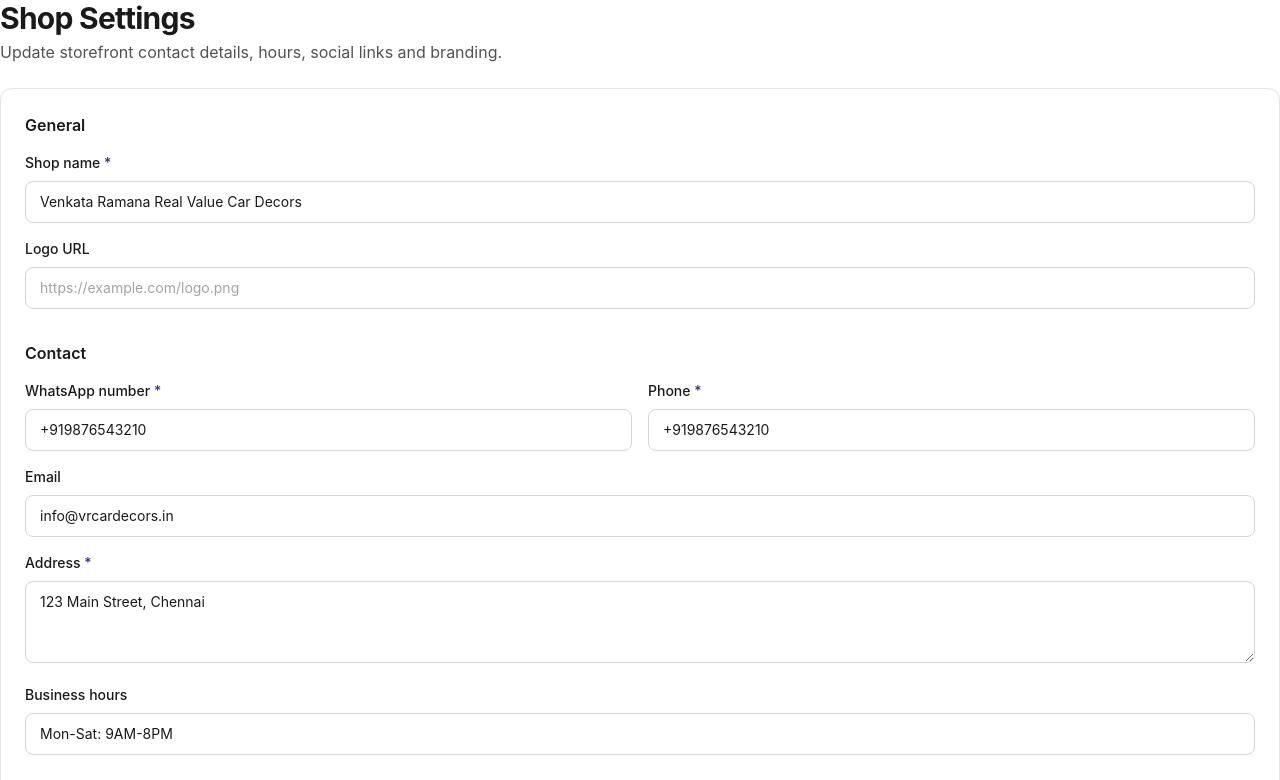
Test: ShopSettingsAdminPage › saves edits with the exact snake_case payload
Replace the text in the field labelled "Shop name *" with "New Name". click: (640, 202)
box: [25,181,1255,223]
(page scrolled)
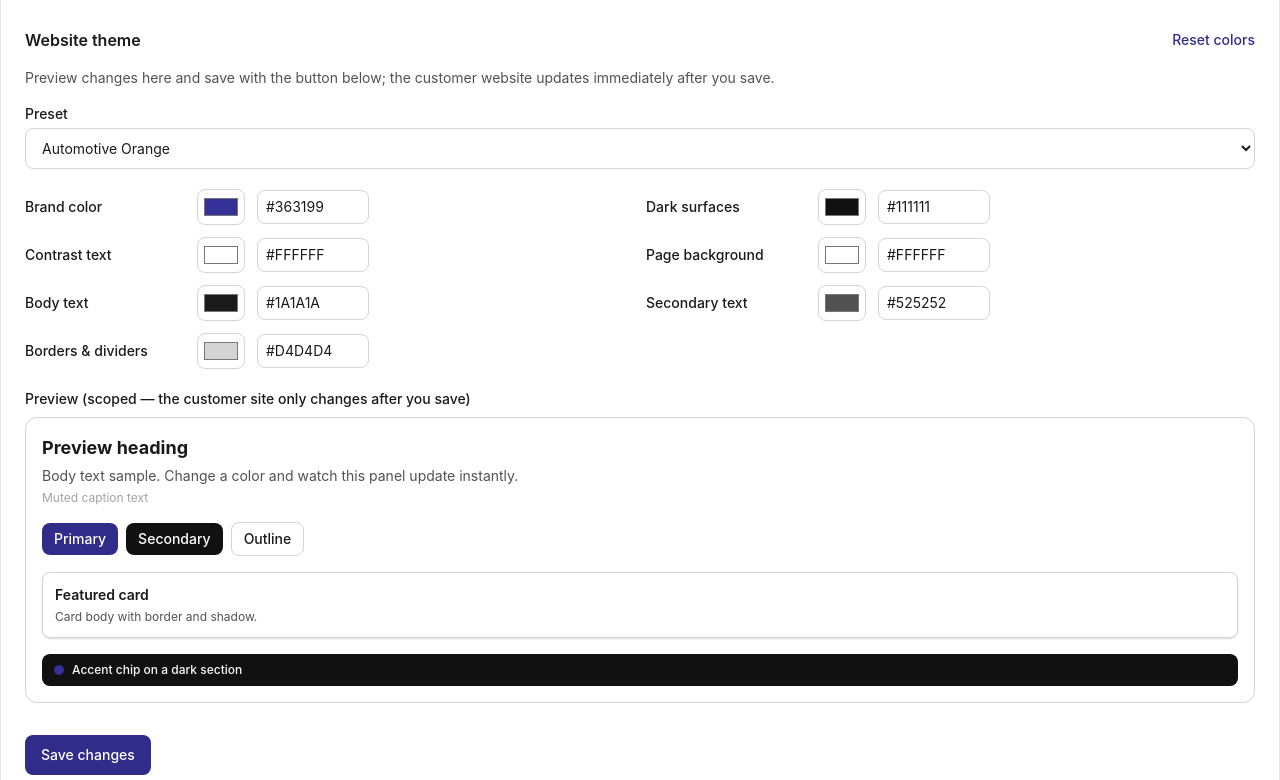
Click the button "Save changes". click: (88, 755)
box: [25,735,151,775]
(page scrolled)
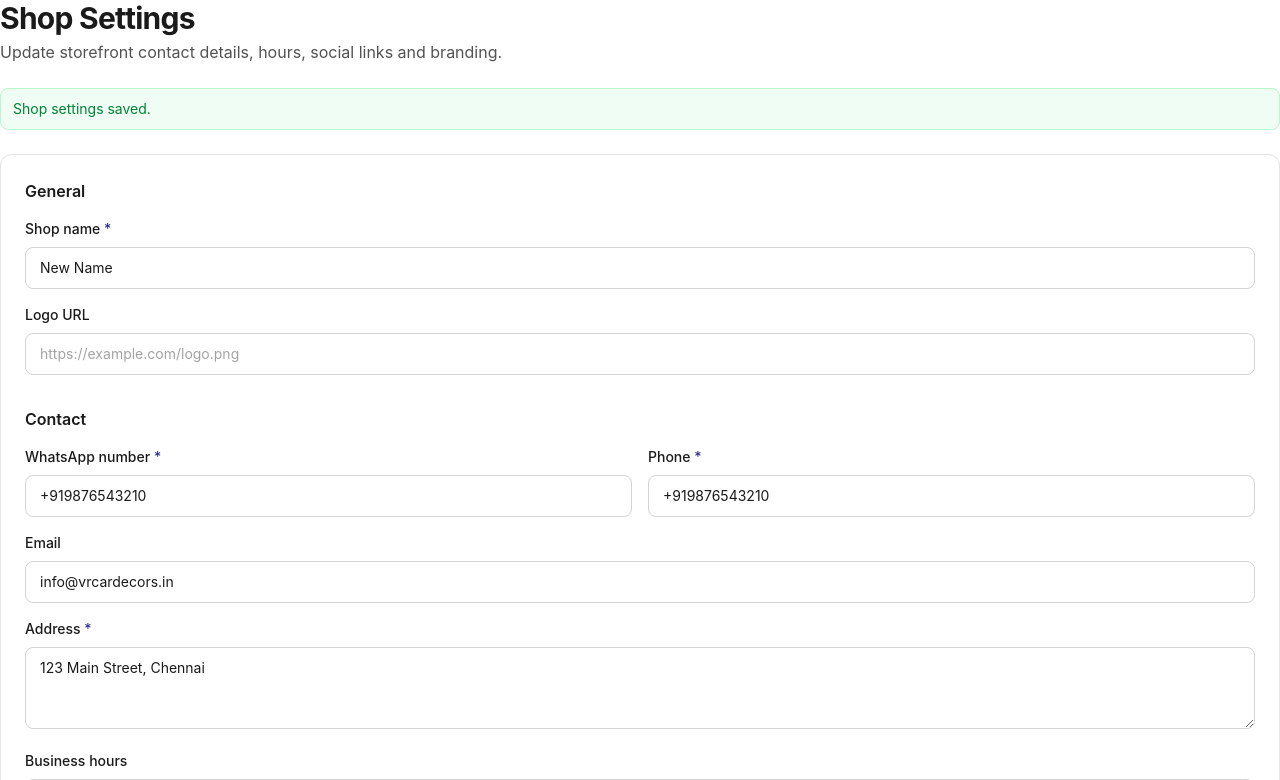
Check: the text "Shop settings saved." is shown, box [0,88,1279,130]
